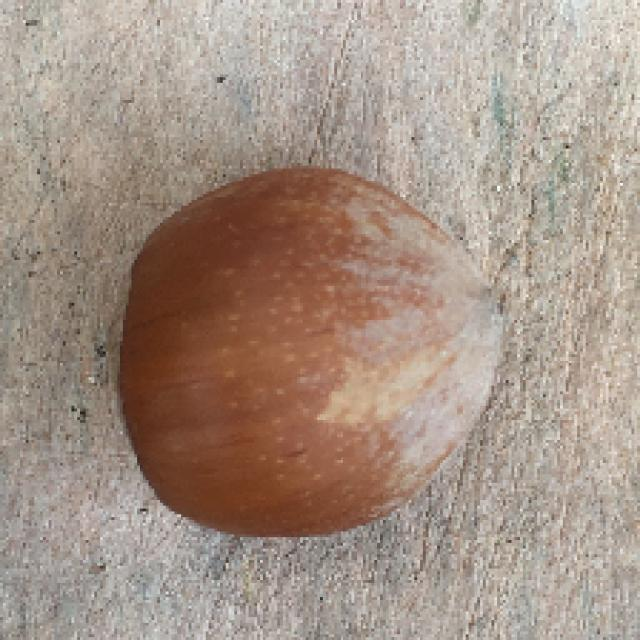qualityHazelnut: (117, 168, 513, 539)
